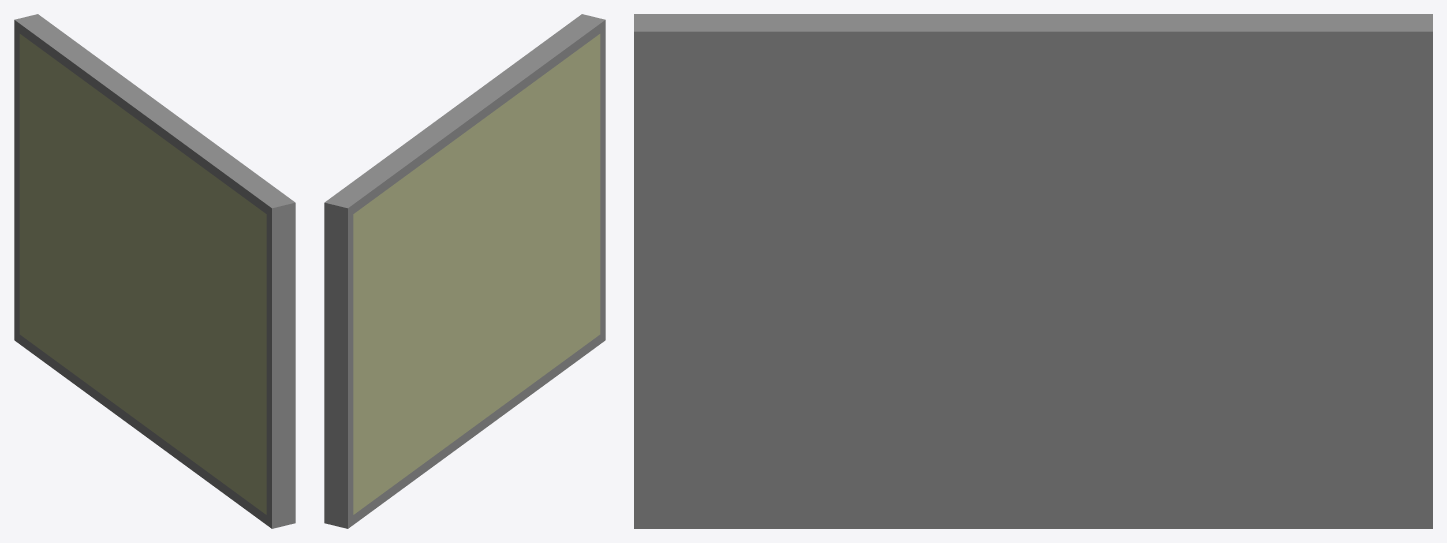
The model's file is SK5_POM_Display001.FBX.
The picture shows the model from 3 angles, left to right: view 1: azimuth 30°, elevation 25°; view 2: azimuth 150°, elevation 25°; view 3: azimuth 270°, elevation 25°; orthographic projection. The views are drawn at different scales.
Visible parts, largest first — view 1: SK5_POM_Display001; view 2: SK5_POM_Display001; view 3: SK5_POM_Display001.
Part boxes in pixels (bbox=[...]): SK5_POM_Display001: bbox=[14, 14, 295, 528]; SK5_POM_Display001: bbox=[324, 14, 605, 528]; SK5_POM_Display001: bbox=[634, 14, 1432, 528].
Bounding box in the file's own units: 2.6 × 33.83 × 49.27.
